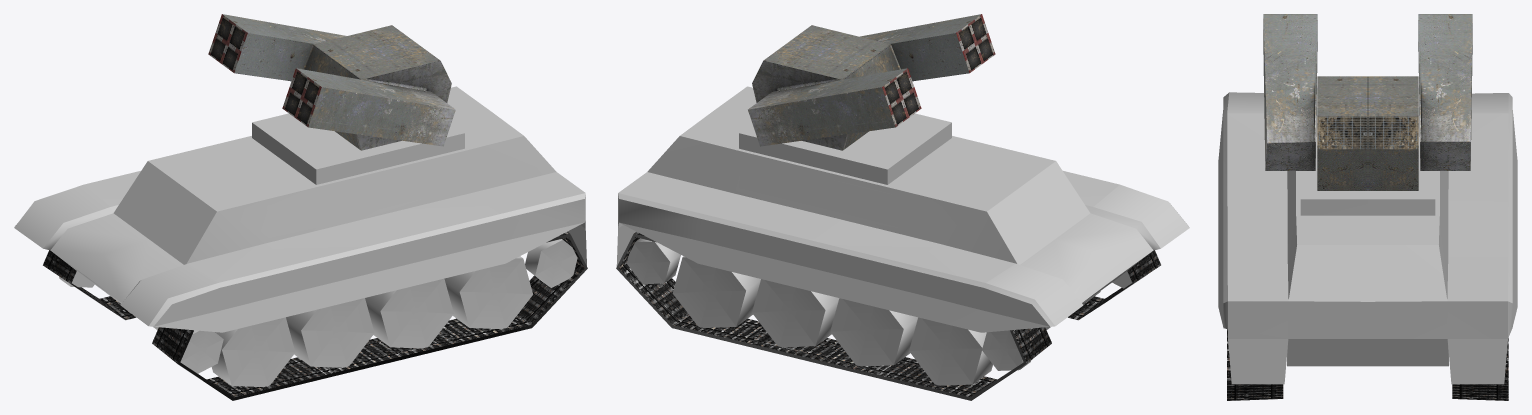
Rendered from Tank5_lod2.FBX.
3 renders of one model, left to right at view 1: azimuth 30°, elevation 25°; view 2: azimuth 150°, elevation 25°; view 3: azimuth 270°, elevation 25°, orthographic. The views are drawn at different scales.
Visible parts, largest first — view 1: tank17, tank5_gun08, Object42, tank5_gun06, tank5_gun07, wheel215, wheel226, wheel224, wheel216, wheel218, wheel222; view 2: tank17, Object42, tank5_gun07, tank5_gun06, tank5_gun08, wheel220, wheel219, wheel225, wheel217, wheel221, wheel228; view 3: tank17, tank5_gun06, tank5_gun07, tank5_gun08, Object42.
Part boxes in pixels (<box>): tank17: <box>14,86,586,332</box>; tank5_gun08: <box>282,68,455,146</box>; Object42: <box>43,232,587,400</box>; tank5_gun06: <box>303,25,451,150</box>; tank5_gun07: <box>208,14,346,81</box>; wheel215: <box>444,256,532,329</box>; wheel226: <box>365,278,453,348</box>; wheel224: <box>286,298,374,367</box>; wheel216: <box>211,317,295,387</box>; wheel218: <box>525,239,577,288</box>; wheel222: <box>180,330,223,373</box>; tank17: <box>616,86,1189,332</box>; Object42: <box>616,232,1160,400</box>; tank5_gun07: <box>748,68,921,146</box>; tank5_gun06: <box>752,25,900,150</box>; tank5_gun08: <box>860,14,995,81</box>; wheel220: <box>672,256,760,327</box>; wheel219: <box>830,298,917,366</box>; wheel225: <box>752,279,839,347</box>; wheel217: <box>909,317,992,385</box>; wheel221: <box>626,238,680,284</box>; wheel228: <box>982,330,1030,370</box>; tank17: <box>1218,88,1517,384</box>; tank5_gun06: <box>1317,76,1418,190</box>; tank5_gun07: <box>1418,14,1472,170</box>; tank5_gun08: <box>1263,14,1317,170</box>; Object42: <box>1227,329,1508,400</box>.
Size of the model in its own units: 5.81 by 3.47 by 3.27.
